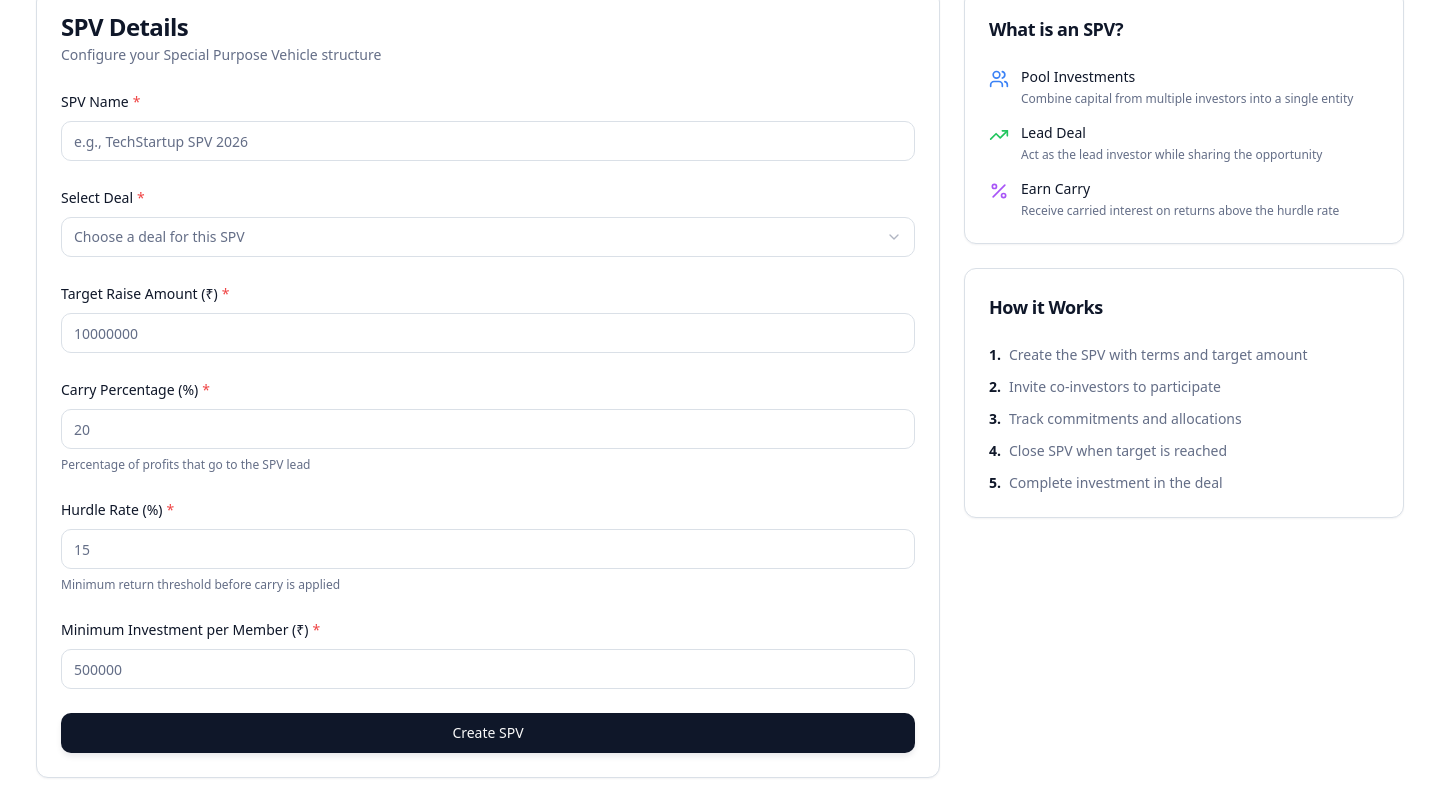
US-INVESTOR-008: Create SPV › SPV Configuration › should validate required fields
(page scrolled)
Click the button "Create SPV" at (488, 733), box [61,713,915,753]
(page scrolled)
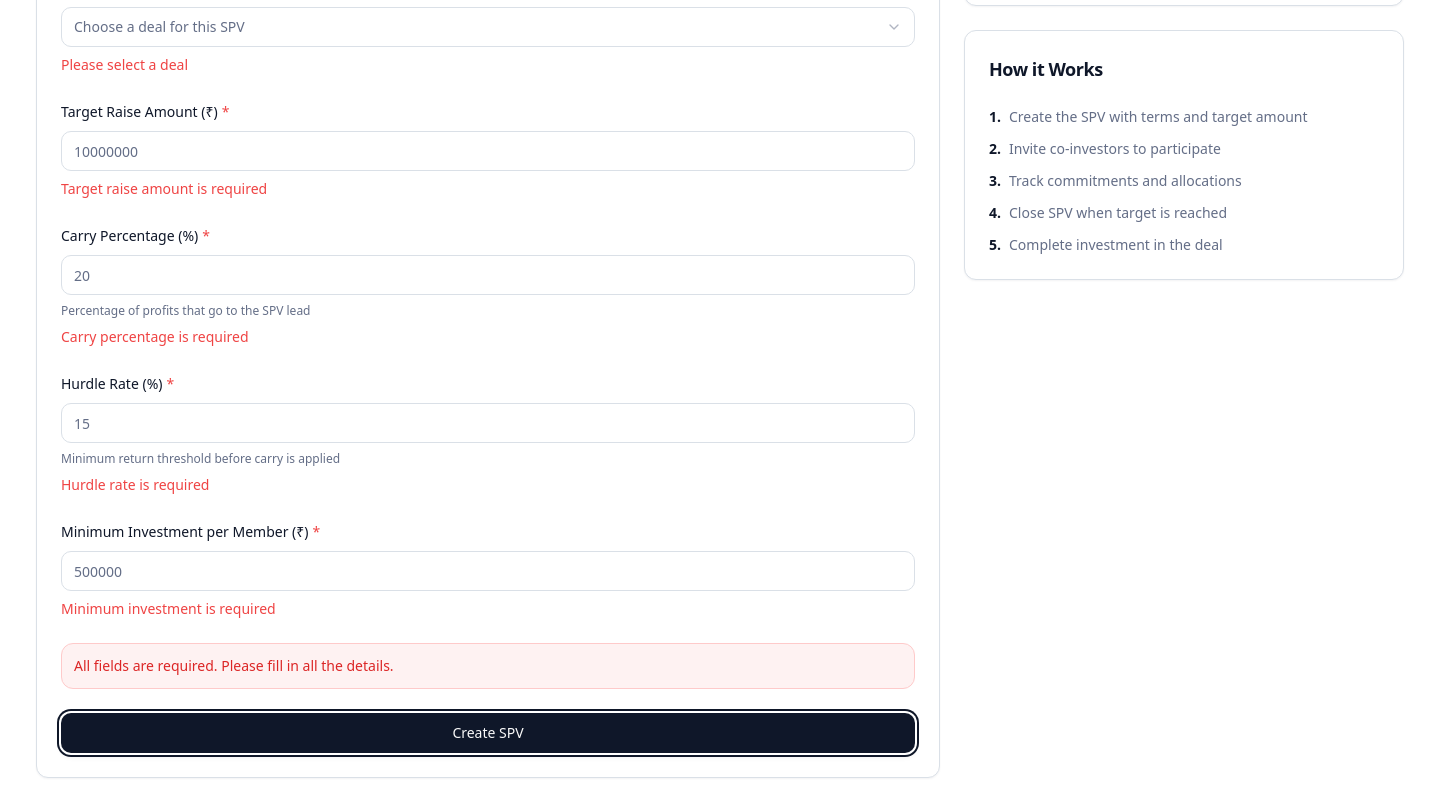
expect the text "All fields are required. Please fill in all the details." is shown: met, box [74,656,394,675]
